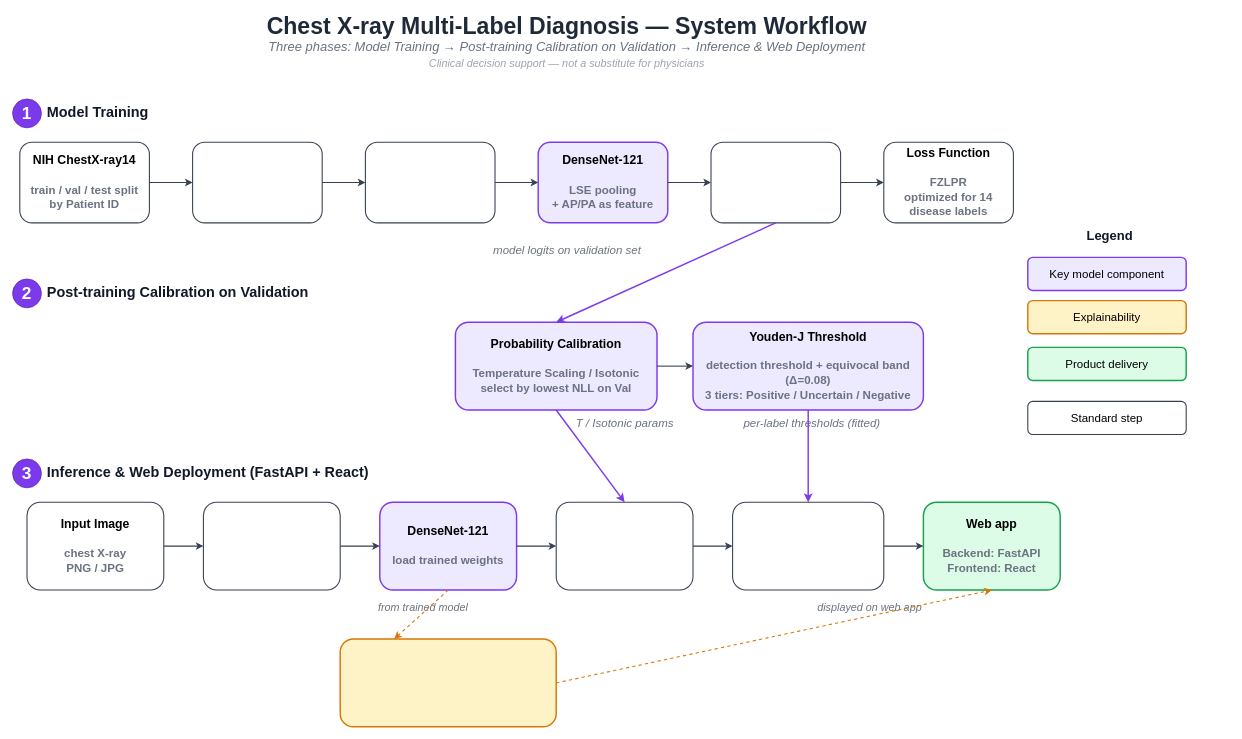
Image size: 1242x739. Some labels were removed from this diagram. Here are the shapes that lost their labels. From the top down, the centre of each, then its label:
[257,182]: Preprocessing CLAHE + letterbox 448 corner-erase + AP/PA
[430,182]: Augmentation flip, crop, brightness blur, noise (train only)
[775,182]: 14-label Head Linear → 14 logits (sigmoid at inference)
[271,545]: Image Normalization contrast enhance + resize 448 corner-erase + view (AP/PA)
[624,545]: Apply Calibration T-scaling / Isotonic (from phase 2)
[808,545]: 3-tier Classification apply saved thresholds to probabilities
[448,682]: Heatmap (Grad-CAM) up to 5 abnormal labels detected (confirmed)
